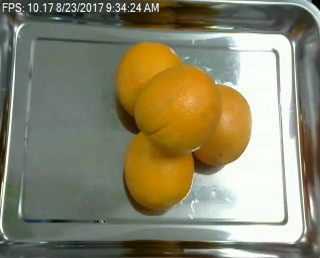Orange: (135, 65, 222, 155), (115, 41, 185, 120), (124, 131, 194, 210), (186, 84, 252, 165)
